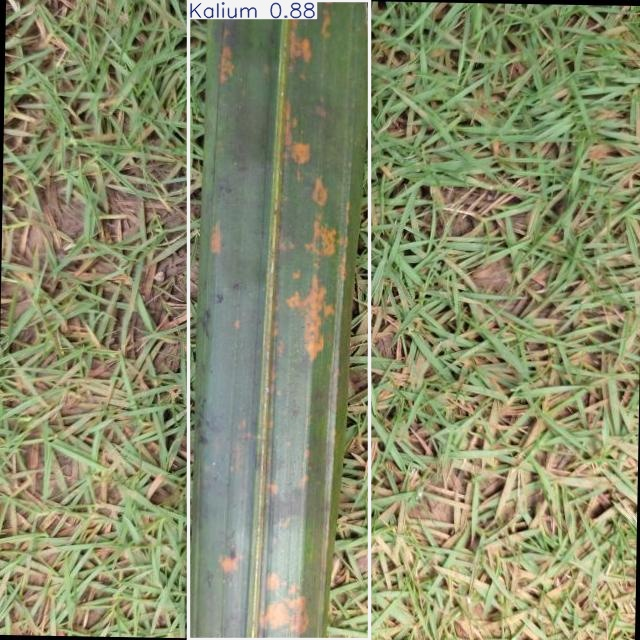Kalium: (189, 1, 370, 640)
